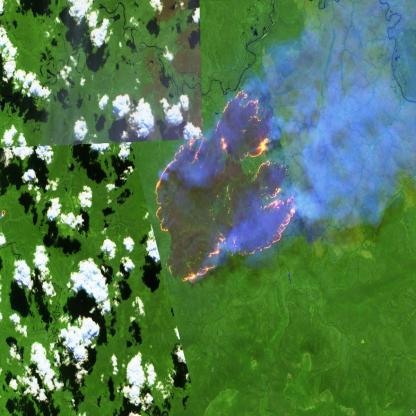fire: (152, 81, 310, 294)
